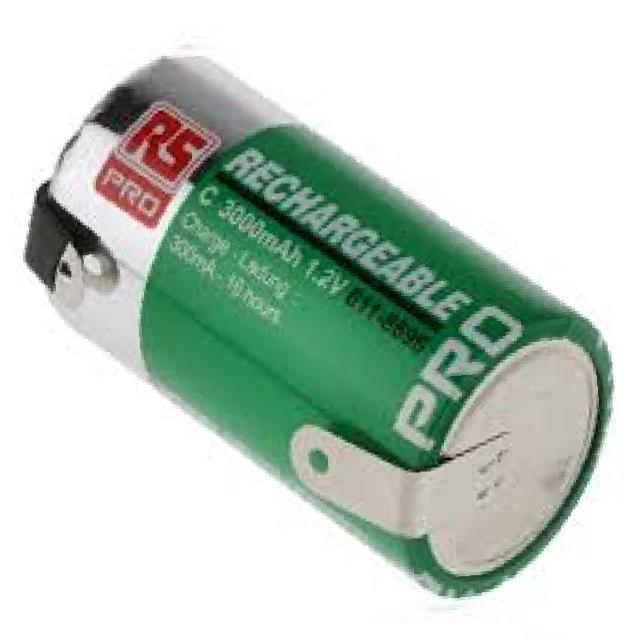Battery: (20, 50, 628, 600)
